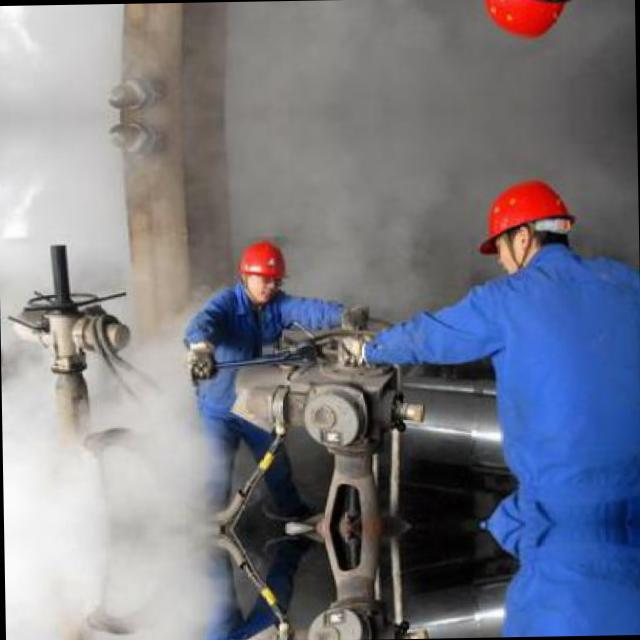helmet: (474, 172, 574, 276), (471, 0, 572, 46), (235, 235, 289, 302)
